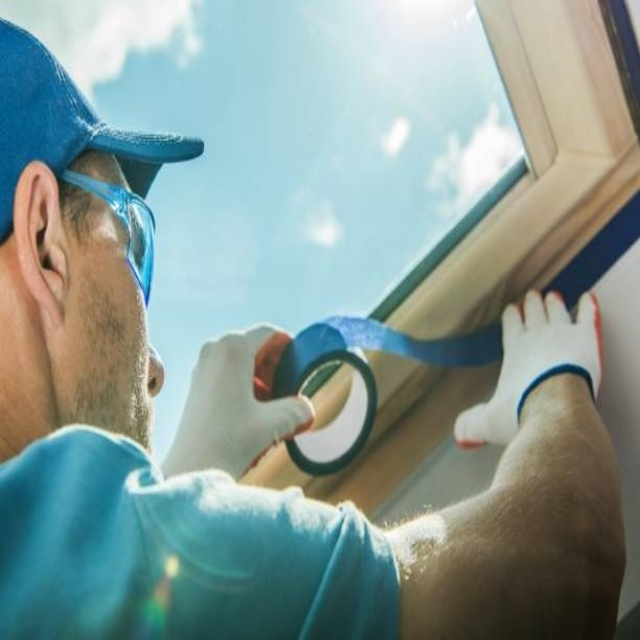Gafas: (57, 168, 159, 309)
Guantes: (159, 324, 317, 487), (453, 287, 604, 450)
